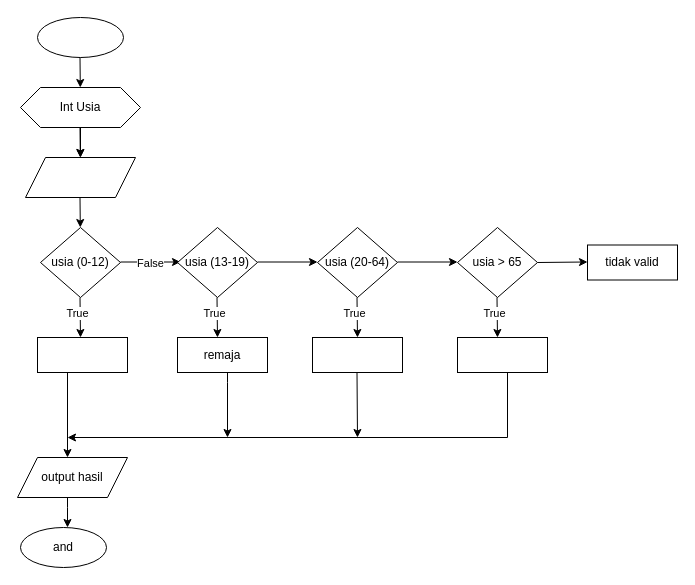
The diagram is 695 pixels wide and 585 high, and some of its shapes have lost their labels. The centre of each missing label's shape, as x and y in pixels:
"anak" belongs at [82,354].
"dewasa" belongs at [357,354].
"Input Usia" belongs at [80,177].
"lansia" belongs at [502,354].
"Mulai" belongs at [80,37].
